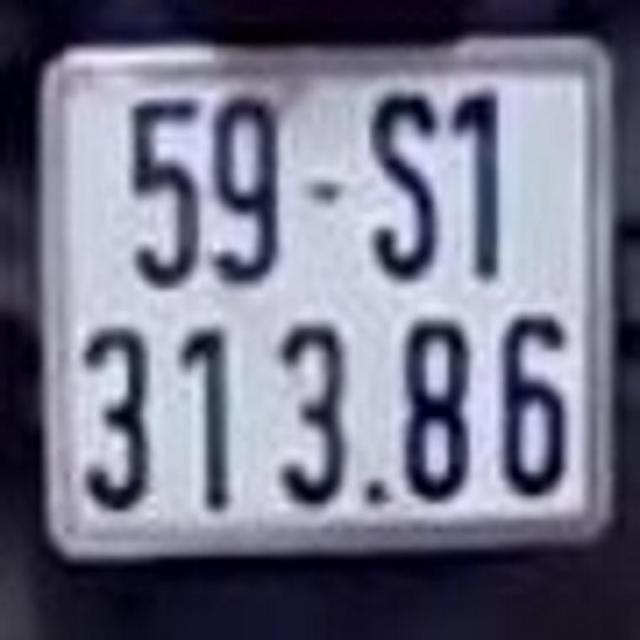1: (171, 304, 256, 522), (448, 70, 526, 284)
3: (72, 302, 161, 514), (271, 310, 357, 516)
5: (104, 49, 210, 298)
6: (492, 294, 577, 500)
8: (392, 297, 482, 513)
9: (207, 85, 292, 306)
S: (358, 75, 448, 282)
